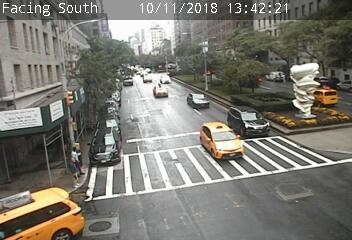car: (200, 122, 244, 162), (228, 106, 270, 136), (89, 128, 121, 164), (307, 88, 337, 107), (186, 93, 210, 108), (153, 85, 169, 98), (160, 75, 172, 84), (142, 75, 152, 83)
